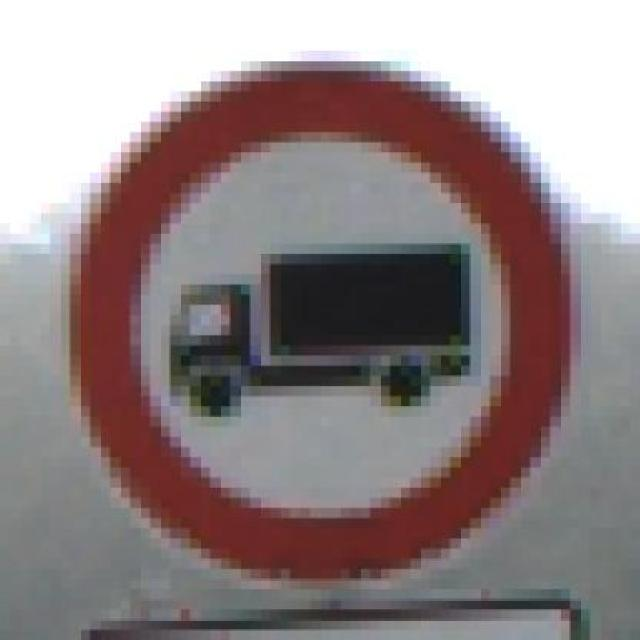Truck traffic is prohibited: (59, 61, 578, 579)
